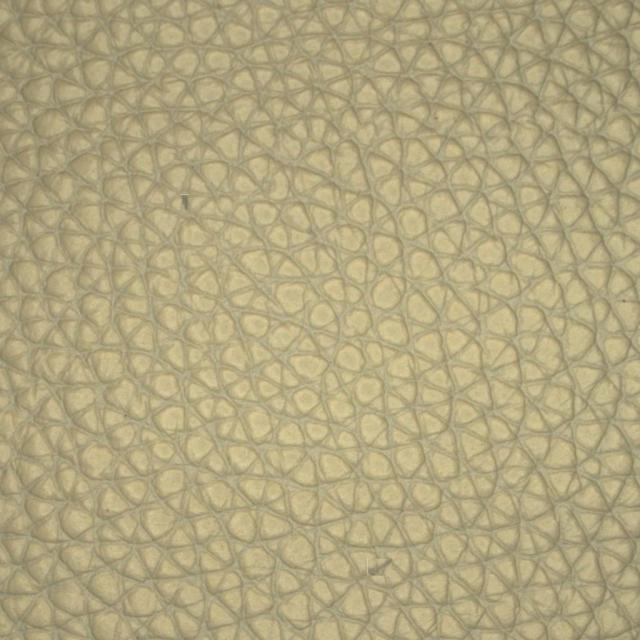pinhole: (73, 113, 321, 279)
